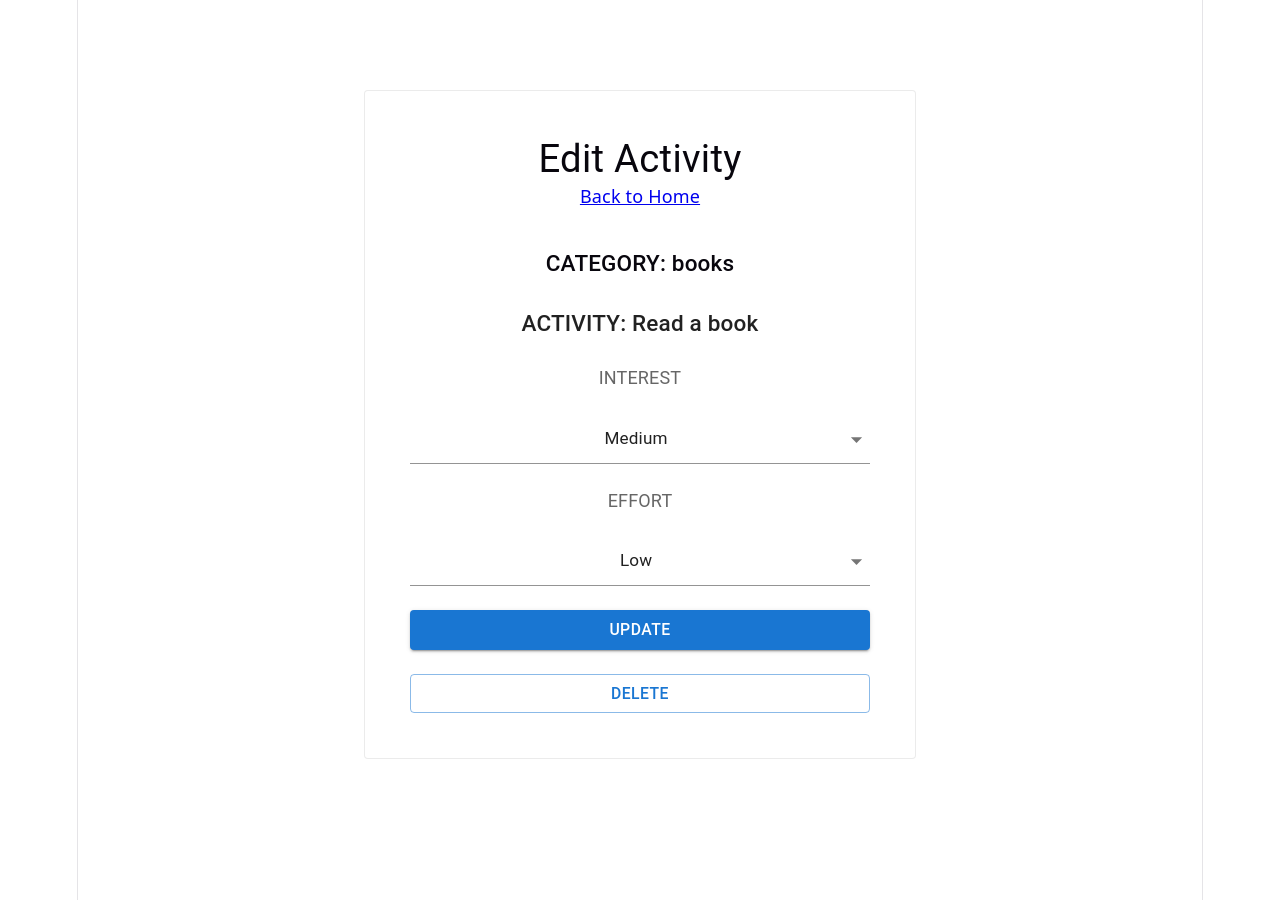
Scenario: ActivityPage › shows API and client errors from actions
Click the button "UPDATE" at [640, 630], box [410,610,870,650]
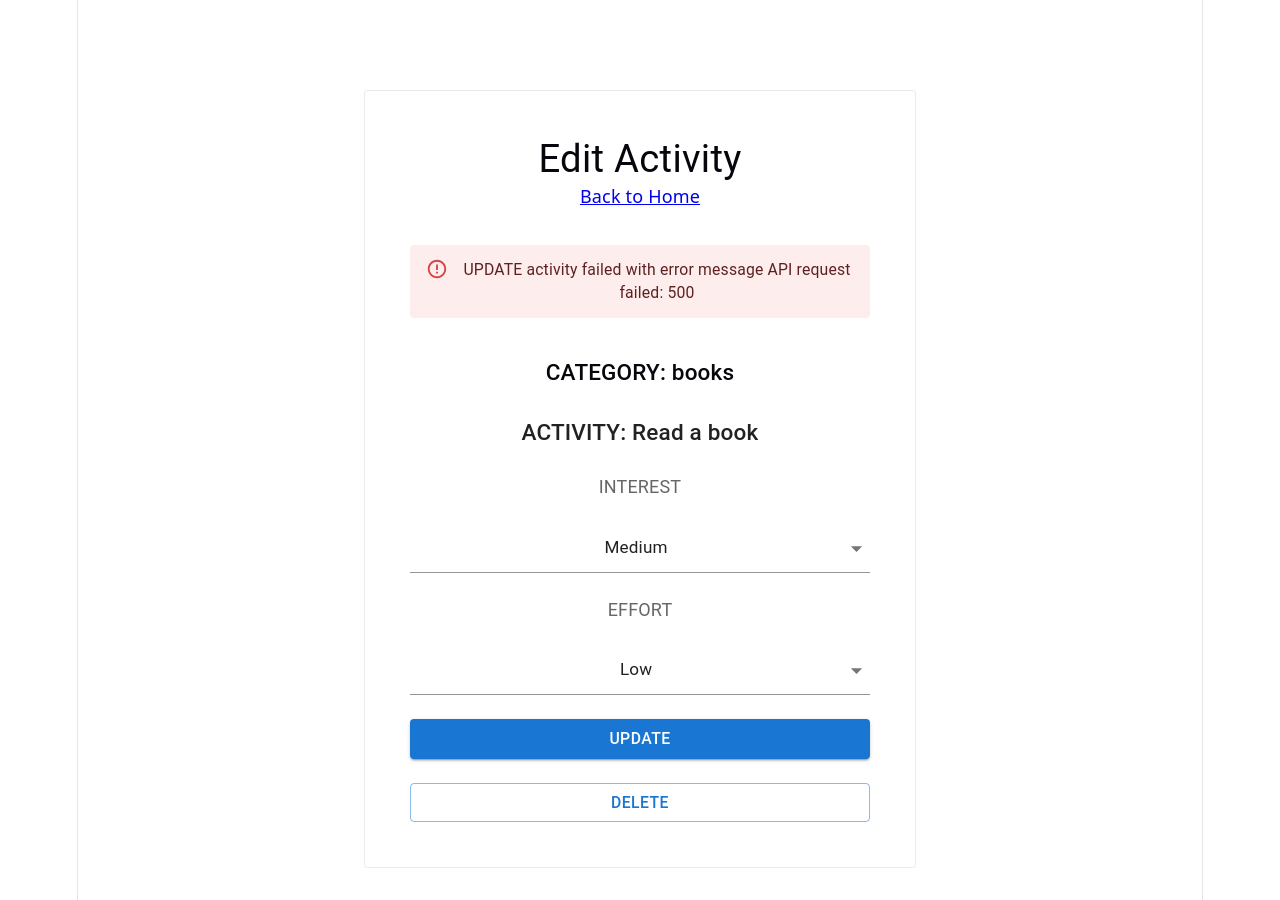
Expected: the text "UPDATE activity failed with error message API request failed: 500" is shown, [460,251,854,312]
Click the button "UPDATE" at [640, 739], box [410,719,870,759]
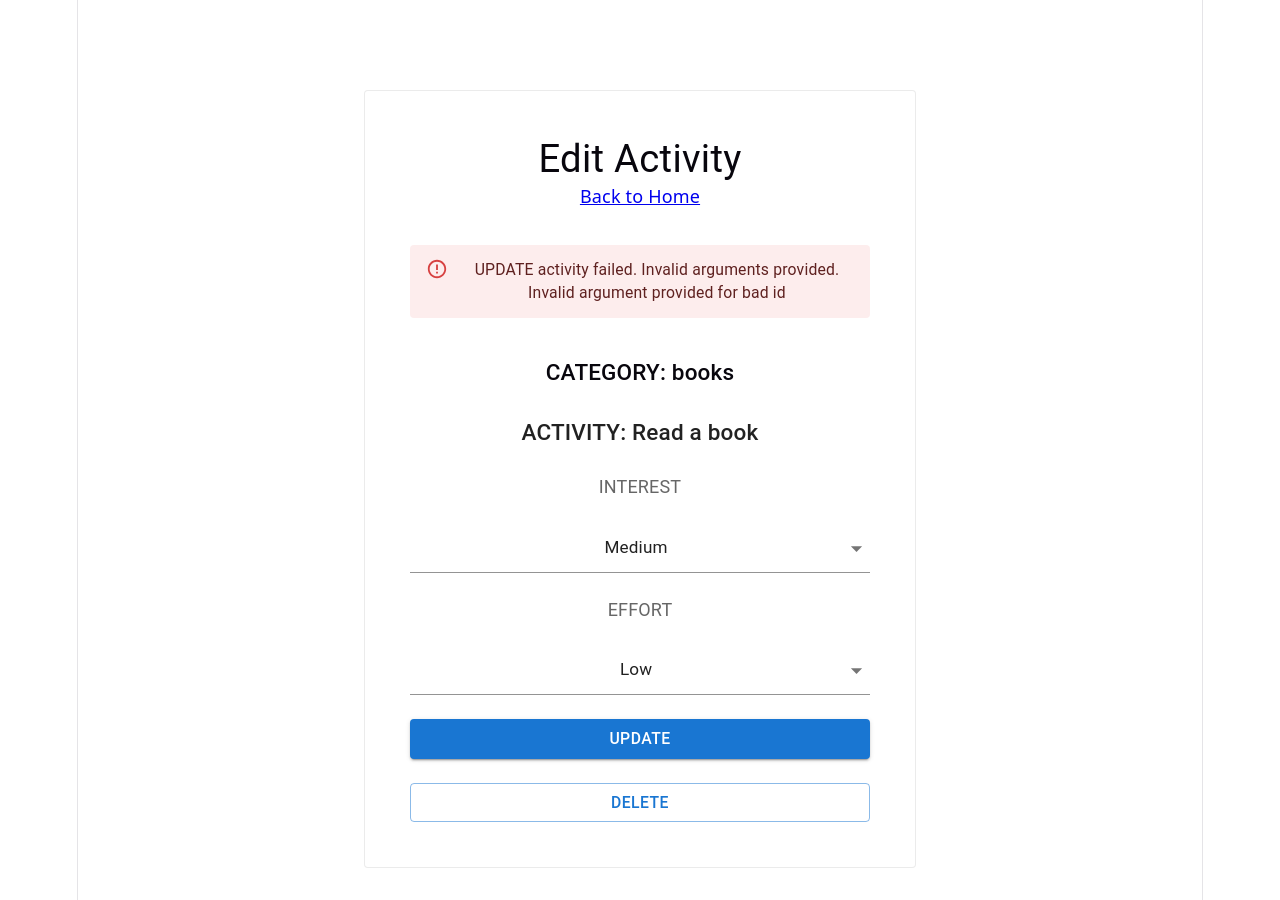
Expected: the text "UPDATE activity failed. Invalid arguments provided. Invalid argument provided for bad id" is shown, [475,260,839,302]
